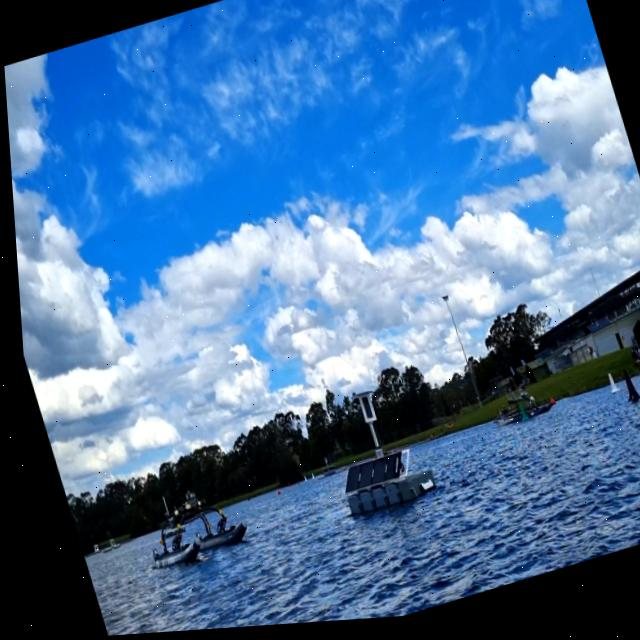led: (353, 398, 369, 426)
